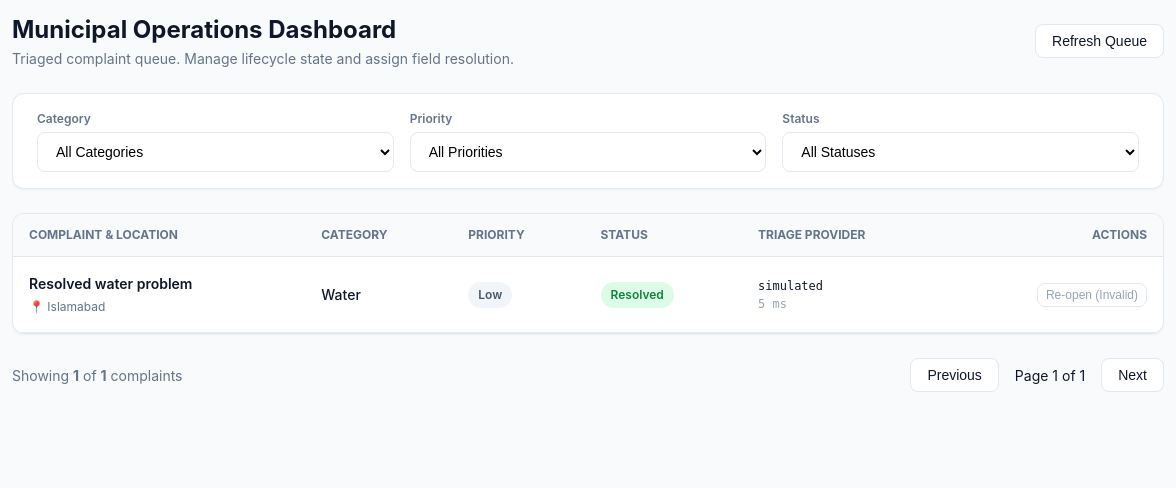
Scenario: DashboardPage Component › surfaces server's 409 message verbatim upon invalid transition
What coordinates should you click on to do the following:
click the button with test id "btn-invalid-reopen-complaint-409-id"
I would click on:
 (1092, 294)
Its box is 1037,282 -> 1147,306.
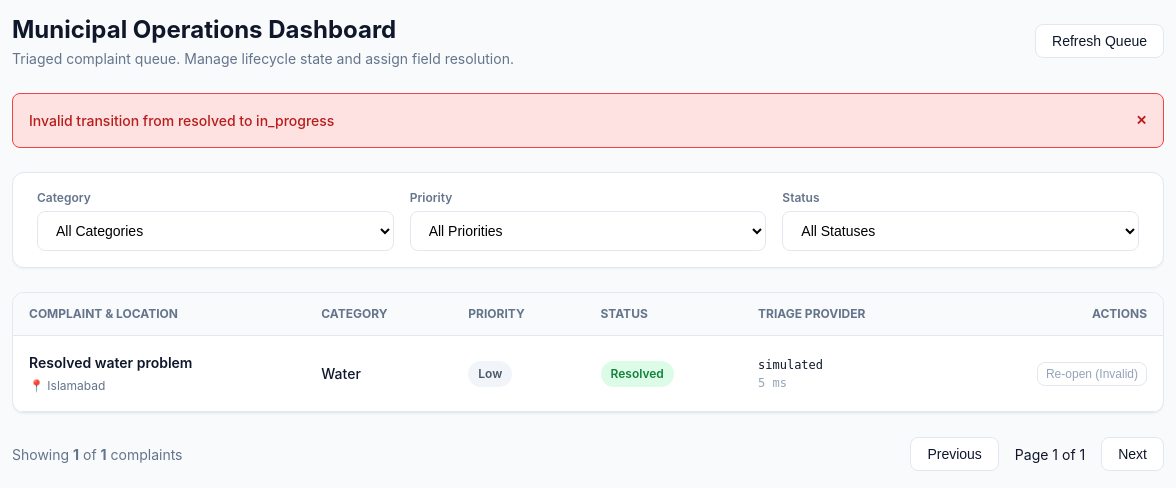
Check: the element with test id "server-error-banner" shows "Invalid transition from resolved to in_progress", box 29,112 -> 334,129
